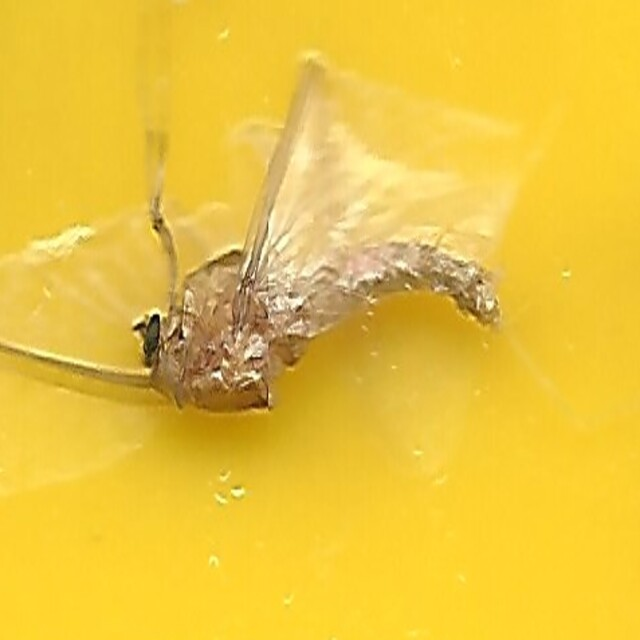Ephemeroptera: (134, 225, 506, 415)
